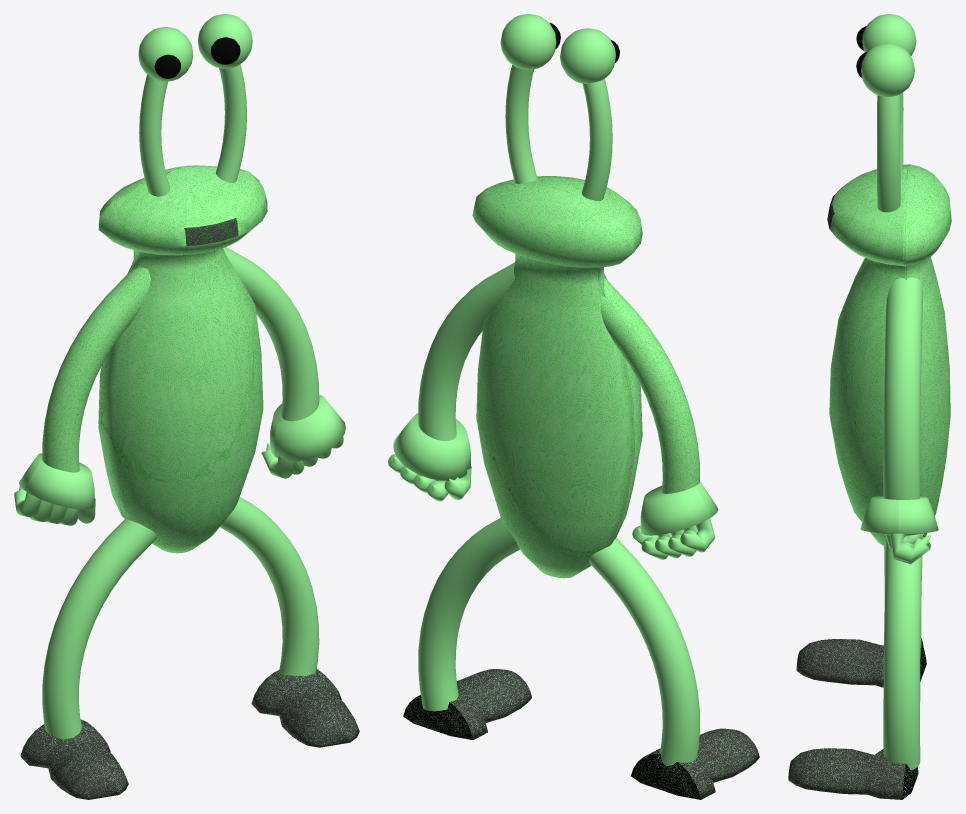
Rendered from alien02.dae.
3 views of the same model, side by side, from view 1: azimuth 30°, elevation 25°; view 2: azimuth 150°, elevation 25°; view 3: azimuth 270°, elevation 25° (orthographic). The views are drawn at different scales.
Visible parts, largest first — view 1: group_11 (×3), group_9, group_3, group_2, group_10, group_4, group_5, SimpleSphere02 (×3), group_6, group_7, group_8, group_1; view 2: group_11 (×2), group_9, group_3, group_2, group_10, group_5 (×2), group_4 (×2), SimpleSphere02 (×2), group_7 (×2), group_6, group_8, group_1; view 3: group_11 (×2), group_10, group_2, group_4 (×2), SimpleSphere02 (×2), group_5, group_6 (×2), group_1.
Part boxes in pixels (x1,y1,x2,y2): group_11 (×3): [98, 165, 267, 553]; group_9: [42, 519, 156, 739]; group_3: [42, 267, 150, 472]; group_2: [220, 497, 319, 676]; group_10: [223, 247, 319, 421]; group_4: [251, 669, 359, 747]; group_5: [20, 719, 128, 799]; SimpleSphere02 (×3): [138, 14, 252, 81]; group_6: [270, 394, 345, 461]; group_7: [19, 453, 94, 509]; group_8: [139, 74, 169, 196]; group_1: [216, 64, 246, 182]; group_11 (×2): [472, 176, 642, 578]; group_9: [589, 537, 699, 766]; group_3: [600, 278, 699, 493]; group_2: [418, 518, 519, 711]; group_10: [418, 262, 515, 441]; group_5 (×2): [631, 728, 759, 799]; group_4 (×2): [403, 669, 531, 739]; SimpleSphere02 (×2): [500, 14, 615, 83]; group_7 (×2): [640, 481, 718, 552]; group_6: [393, 413, 470, 480]; group_8: [582, 78, 612, 200]; group_1: [505, 65, 537, 183]; group_11 (×2): [829, 164, 951, 547]; group_10: [883, 277, 922, 499]; group_2: [883, 535, 922, 770]; group_4 (×2): [788, 748, 918, 799]; SimpleSphere02 (×2): [861, 14, 916, 96]; group_5: [796, 639, 883, 687]; group_6 (×2): [860, 495, 938, 562]; group_1: [877, 94, 900, 212].
Bounding box in the file's own units: 36.39 × 16.57 × 78.29.
